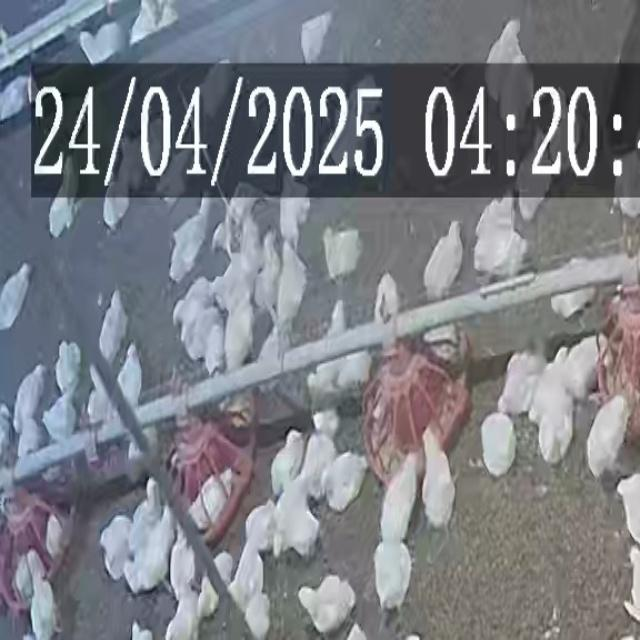chicken: (376, 450, 422, 539), (583, 397, 631, 481), (295, 572, 359, 634), (423, 425, 458, 534), (274, 238, 312, 334), (420, 218, 466, 297), (320, 451, 368, 512), (371, 542, 412, 610), (479, 411, 518, 478), (27, 555, 59, 636), (270, 429, 306, 498), (322, 224, 365, 279), (0, 262, 33, 329), (98, 290, 128, 362), (54, 338, 82, 397)
